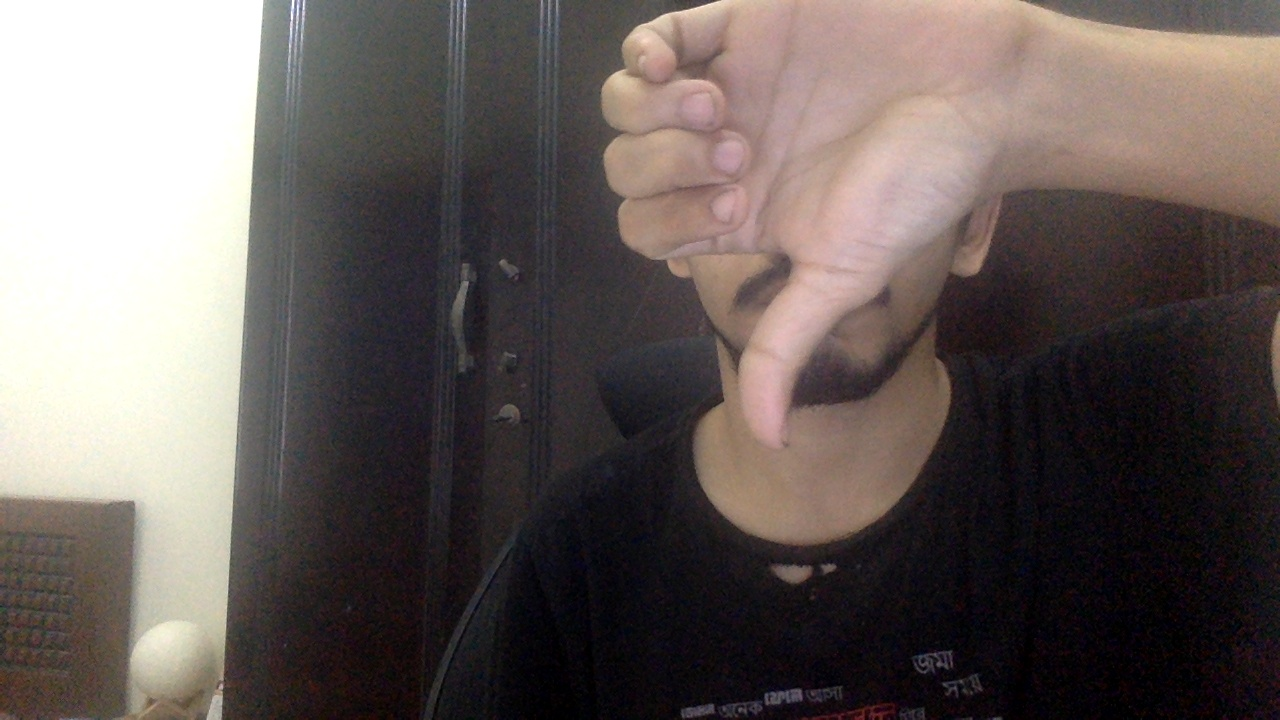bad: (601, 2, 1014, 453)
